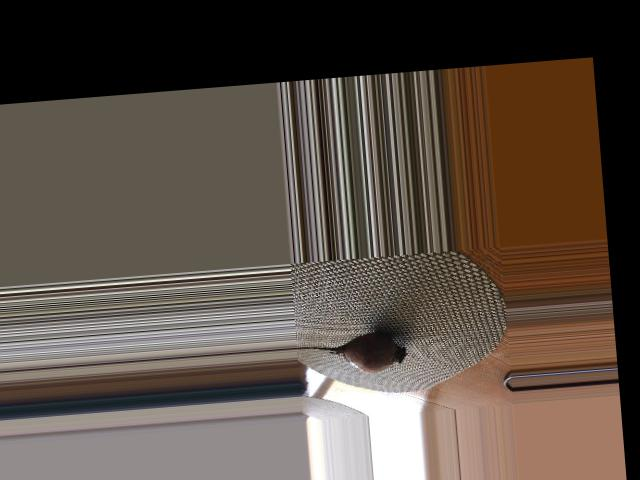beet: (296, 330, 408, 378)
